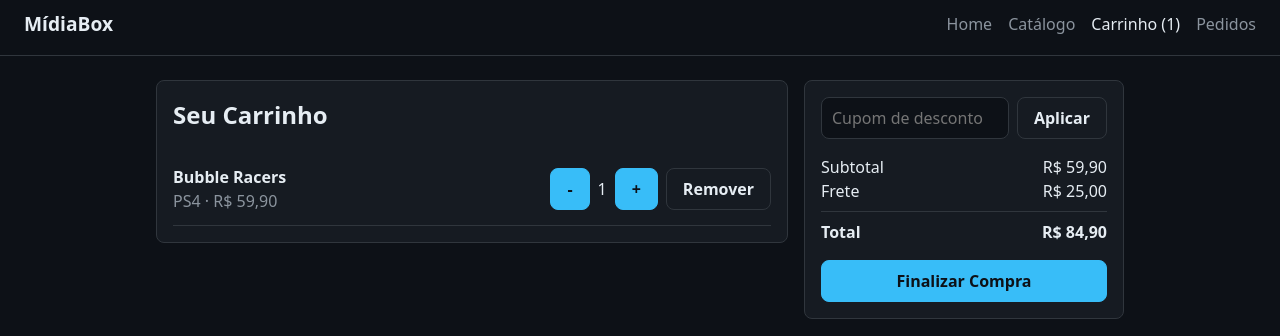
it: página Carrinho › diminuir até zero esvazia o carrinho
What coordinates should you click on to do the following:
click the button named "Diminuir Bubble Racers"
I would click on:
 (570, 189)
Its box is x1=550 y1=168 x2=590 y2=210.
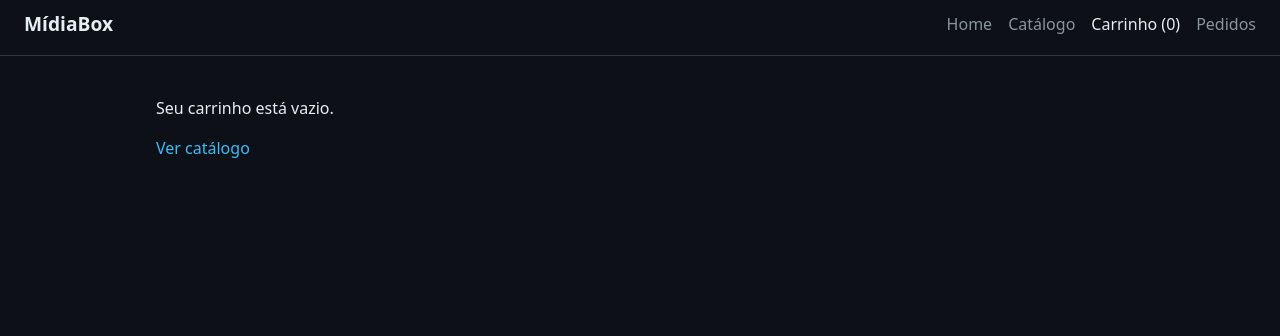
Check: the text "Seu carrinho está vazio." is shown, box x1=156 y1=97 x2=334 y2=119
